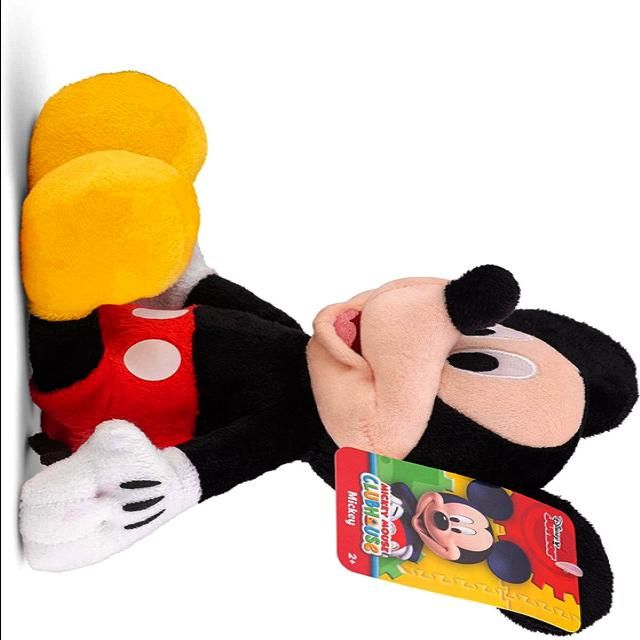mickey: (20, 72, 635, 626), (389, 480, 530, 583)
